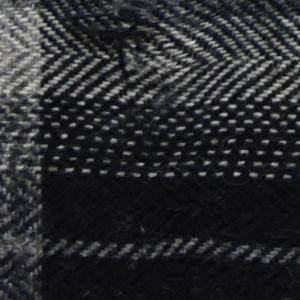Damage: (54, 1, 188, 120)
